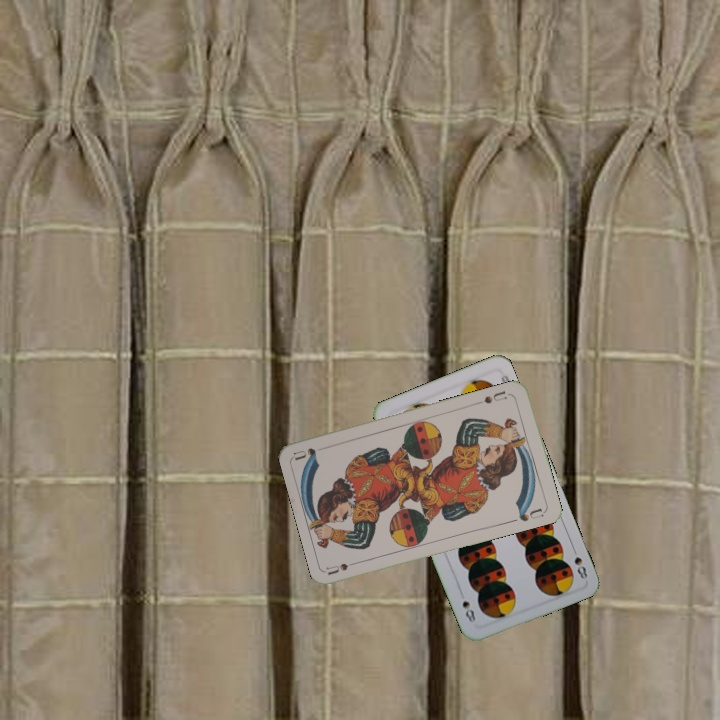S8: (568, 542, 590, 582)
SU: (324, 557, 364, 578), (480, 387, 514, 406)
